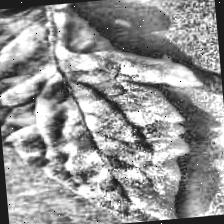leaf mold: (3, 66, 62, 102), (0, 32, 39, 69)
